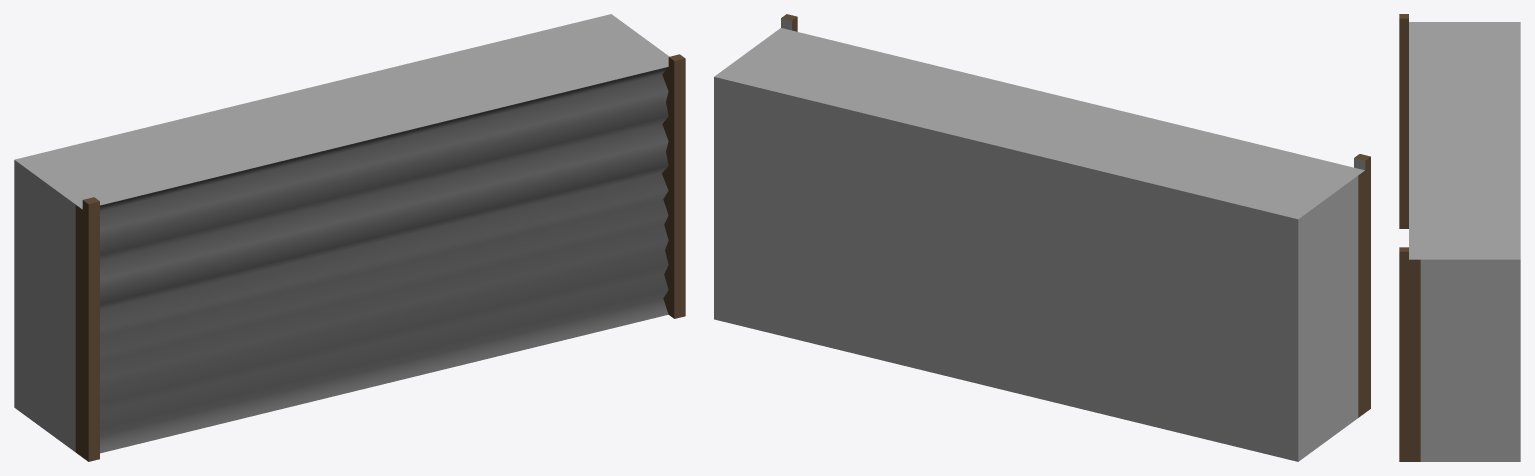
Rendered from Wall.fbx.
3 renders of one model, left to right at view 1: azimuth 30°, elevation 25°; view 2: azimuth 150°, elevation 25°; view 3: azimuth 270°, elevation 25°, orthographic. The views are drawn at different scales.
Visible parts, largest first — view 1: pCube1; view 2: pCube1; view 3: pCube1.
Part boxes in pixels (x1,y1,x2,y2): pCube1: (14,14,685,461); pCube1: (714,14,1370,461); pCube1: (1399,14,1520,461).
Size of the model in its own units: 5.04 by 2.08 by 1.09.
